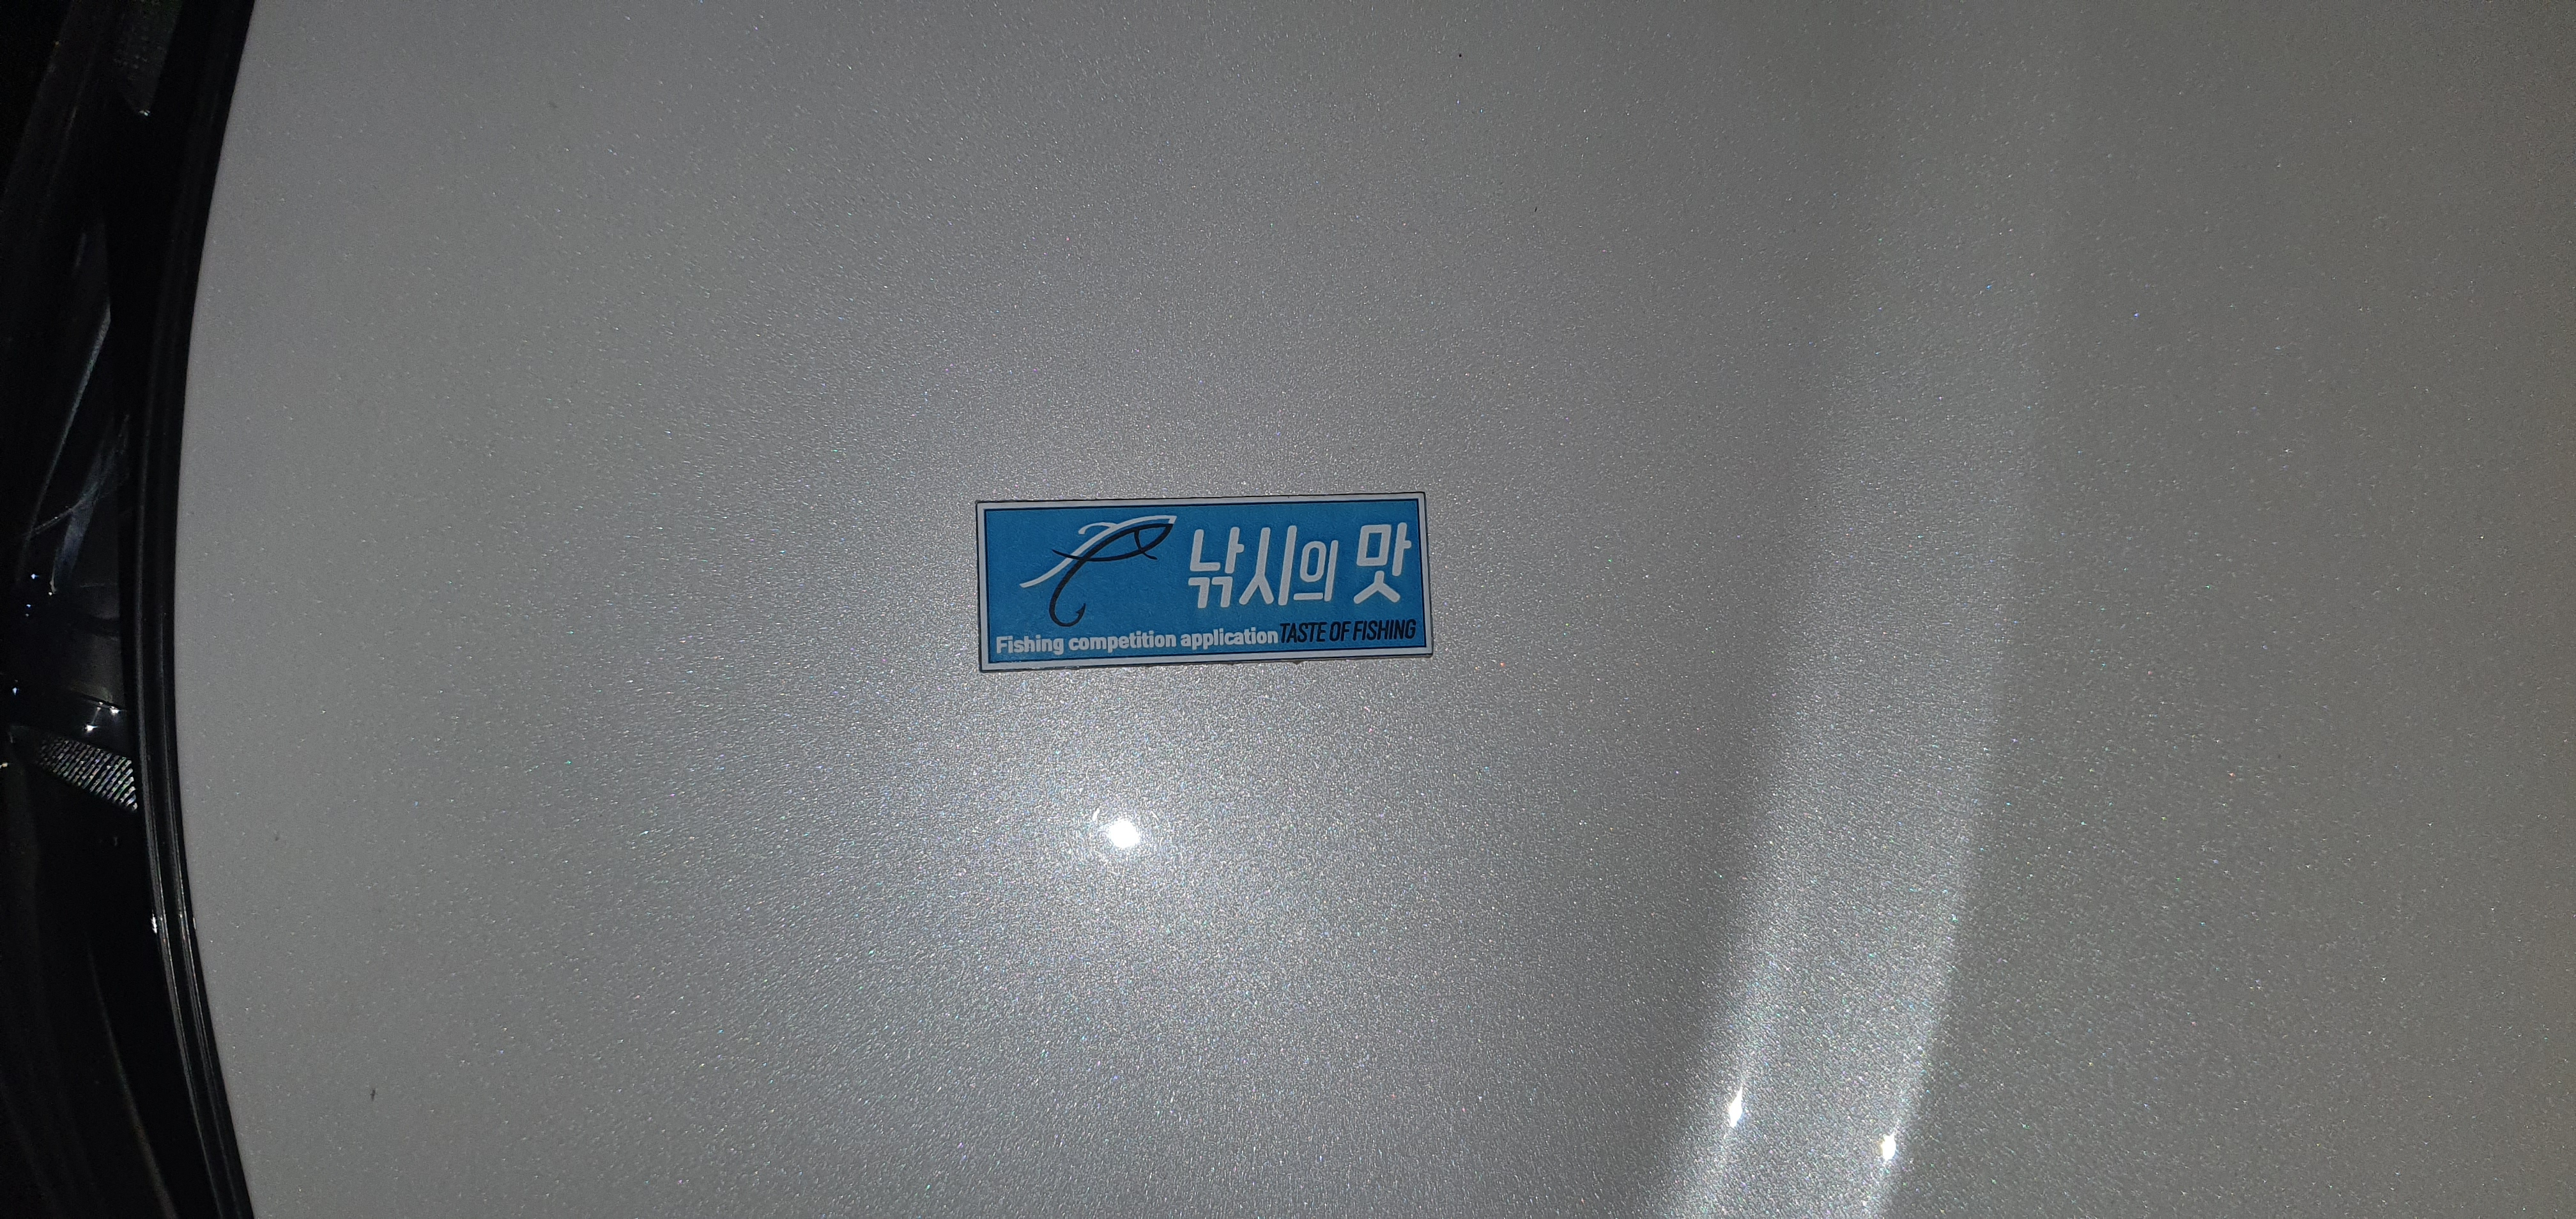tag: (976, 496, 1433, 667)
